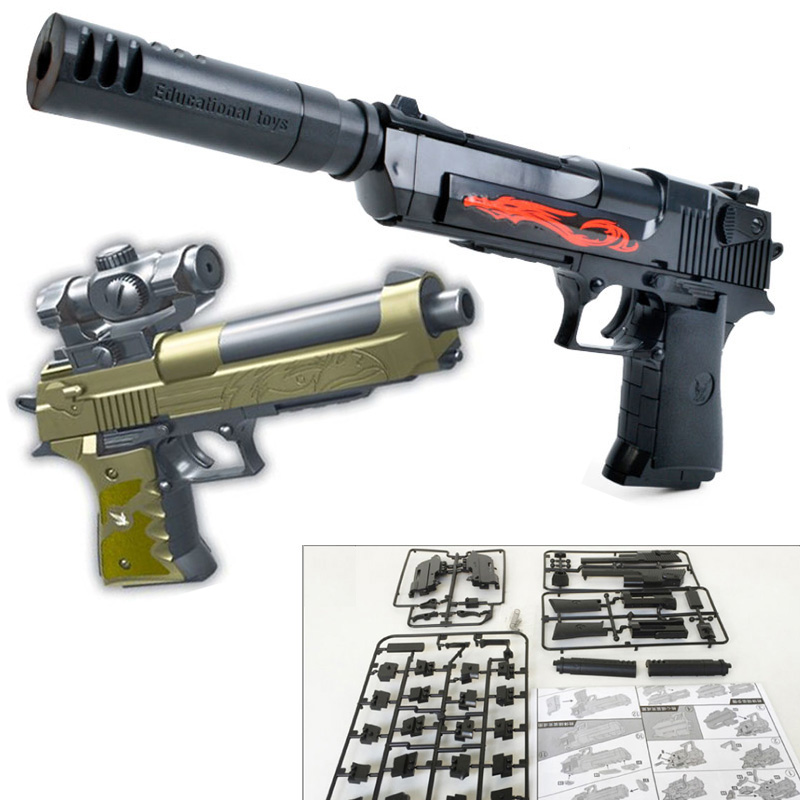Arma Falsa: (24, 10, 785, 503), (5, 240, 495, 602)
